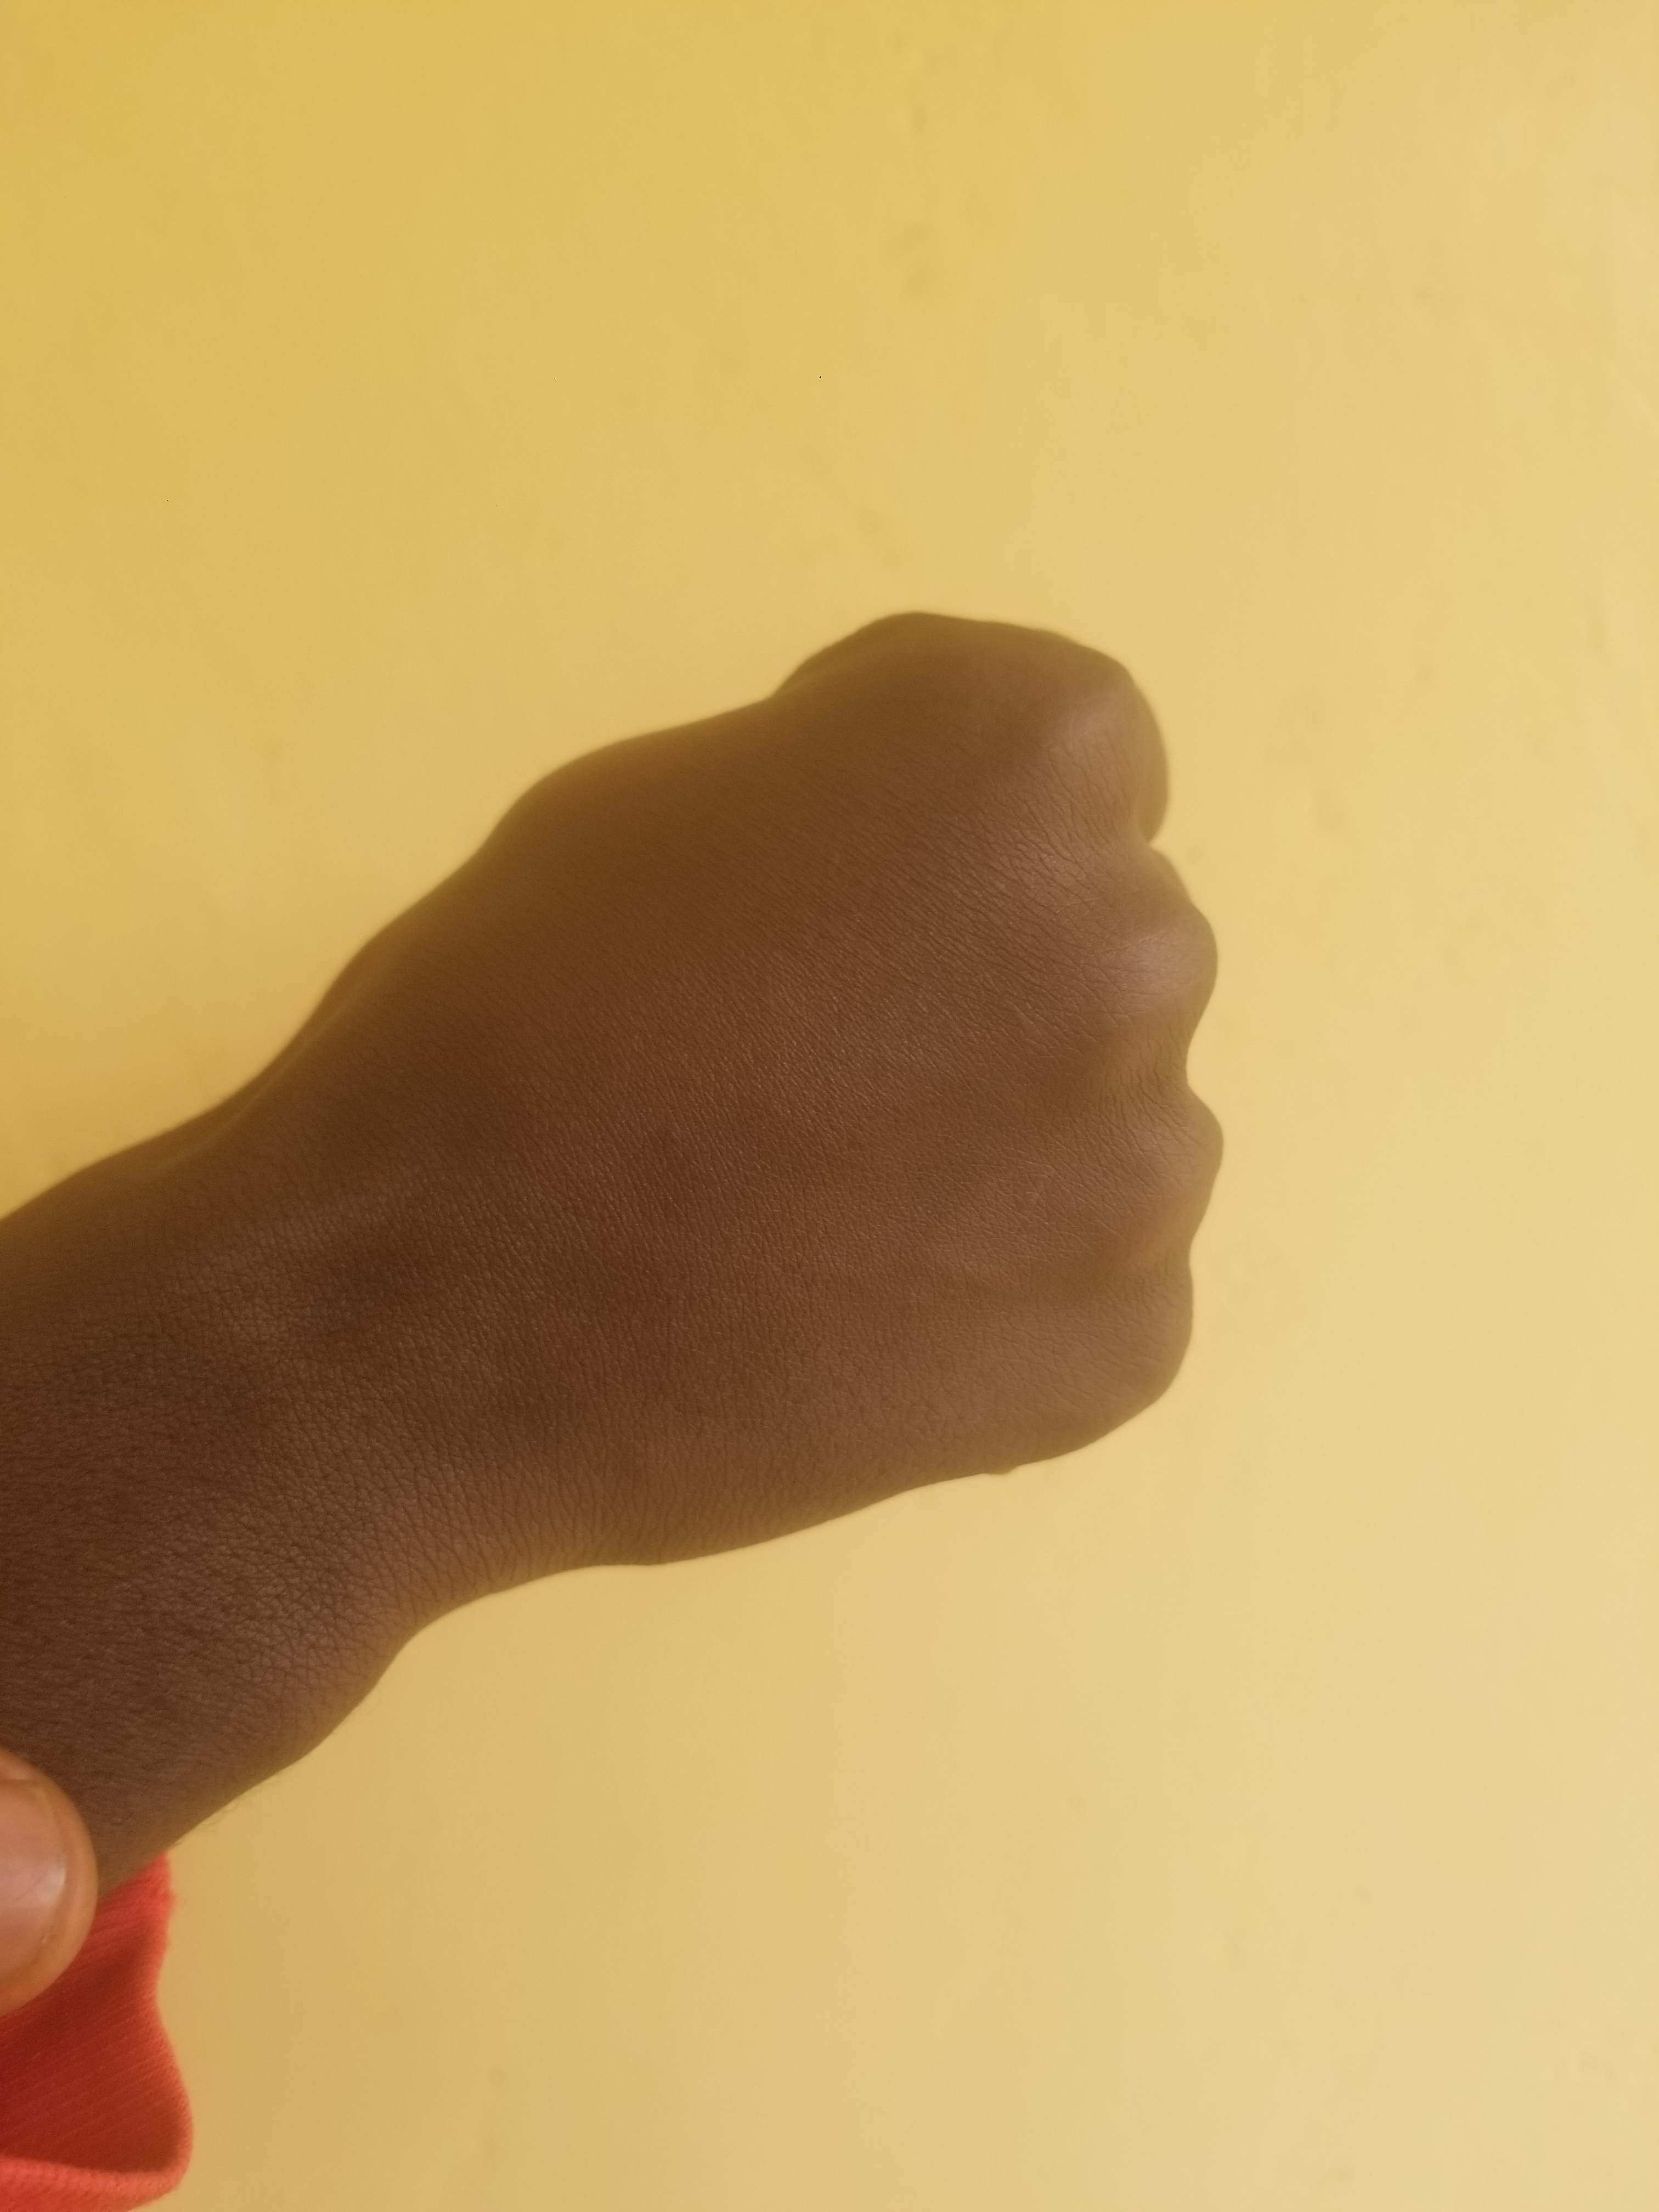fist: (105, 341, 1530, 1905)
